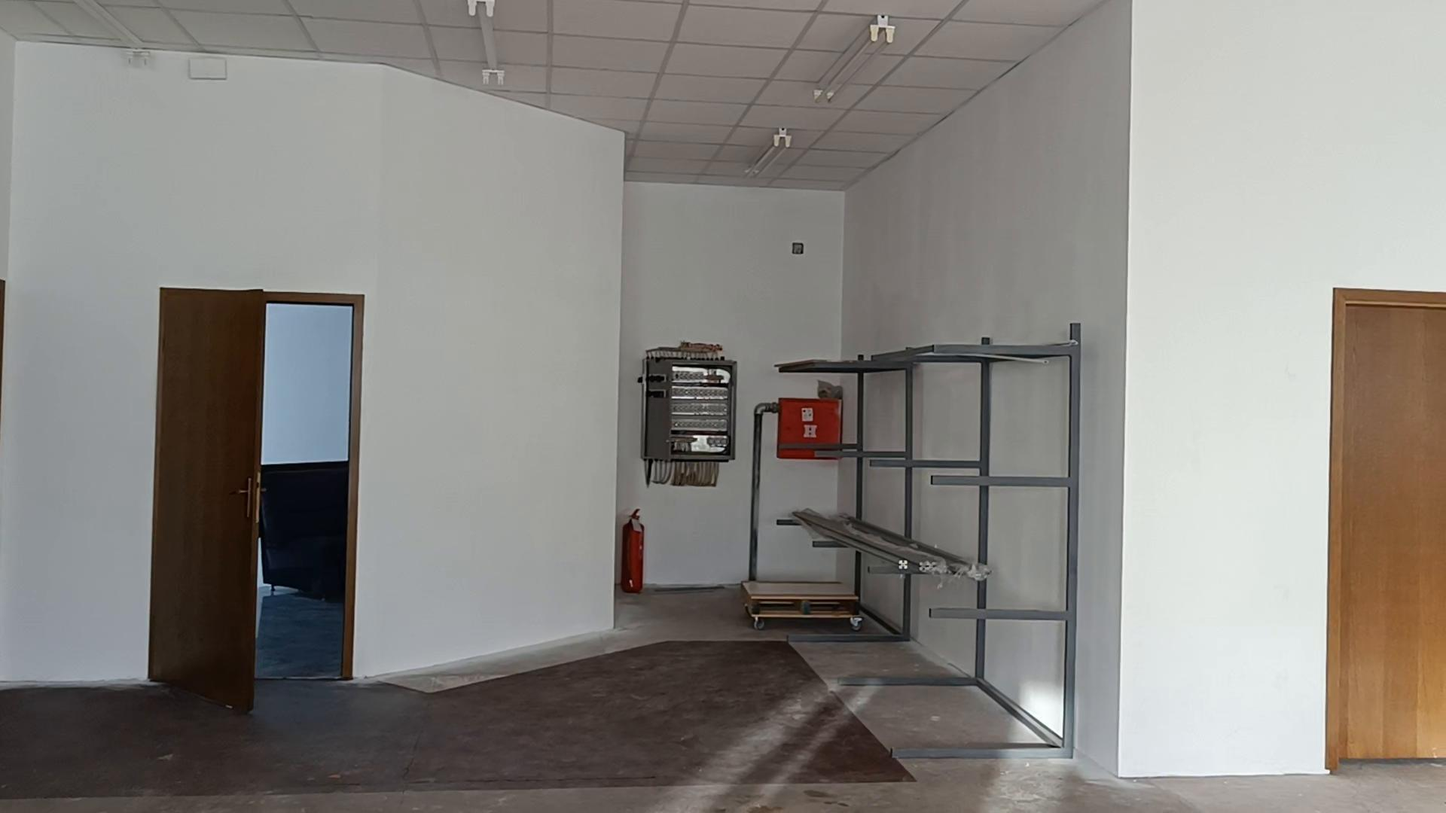ceiling: (0, 0, 1105, 189)
floor: (0, 589, 1445, 812)
